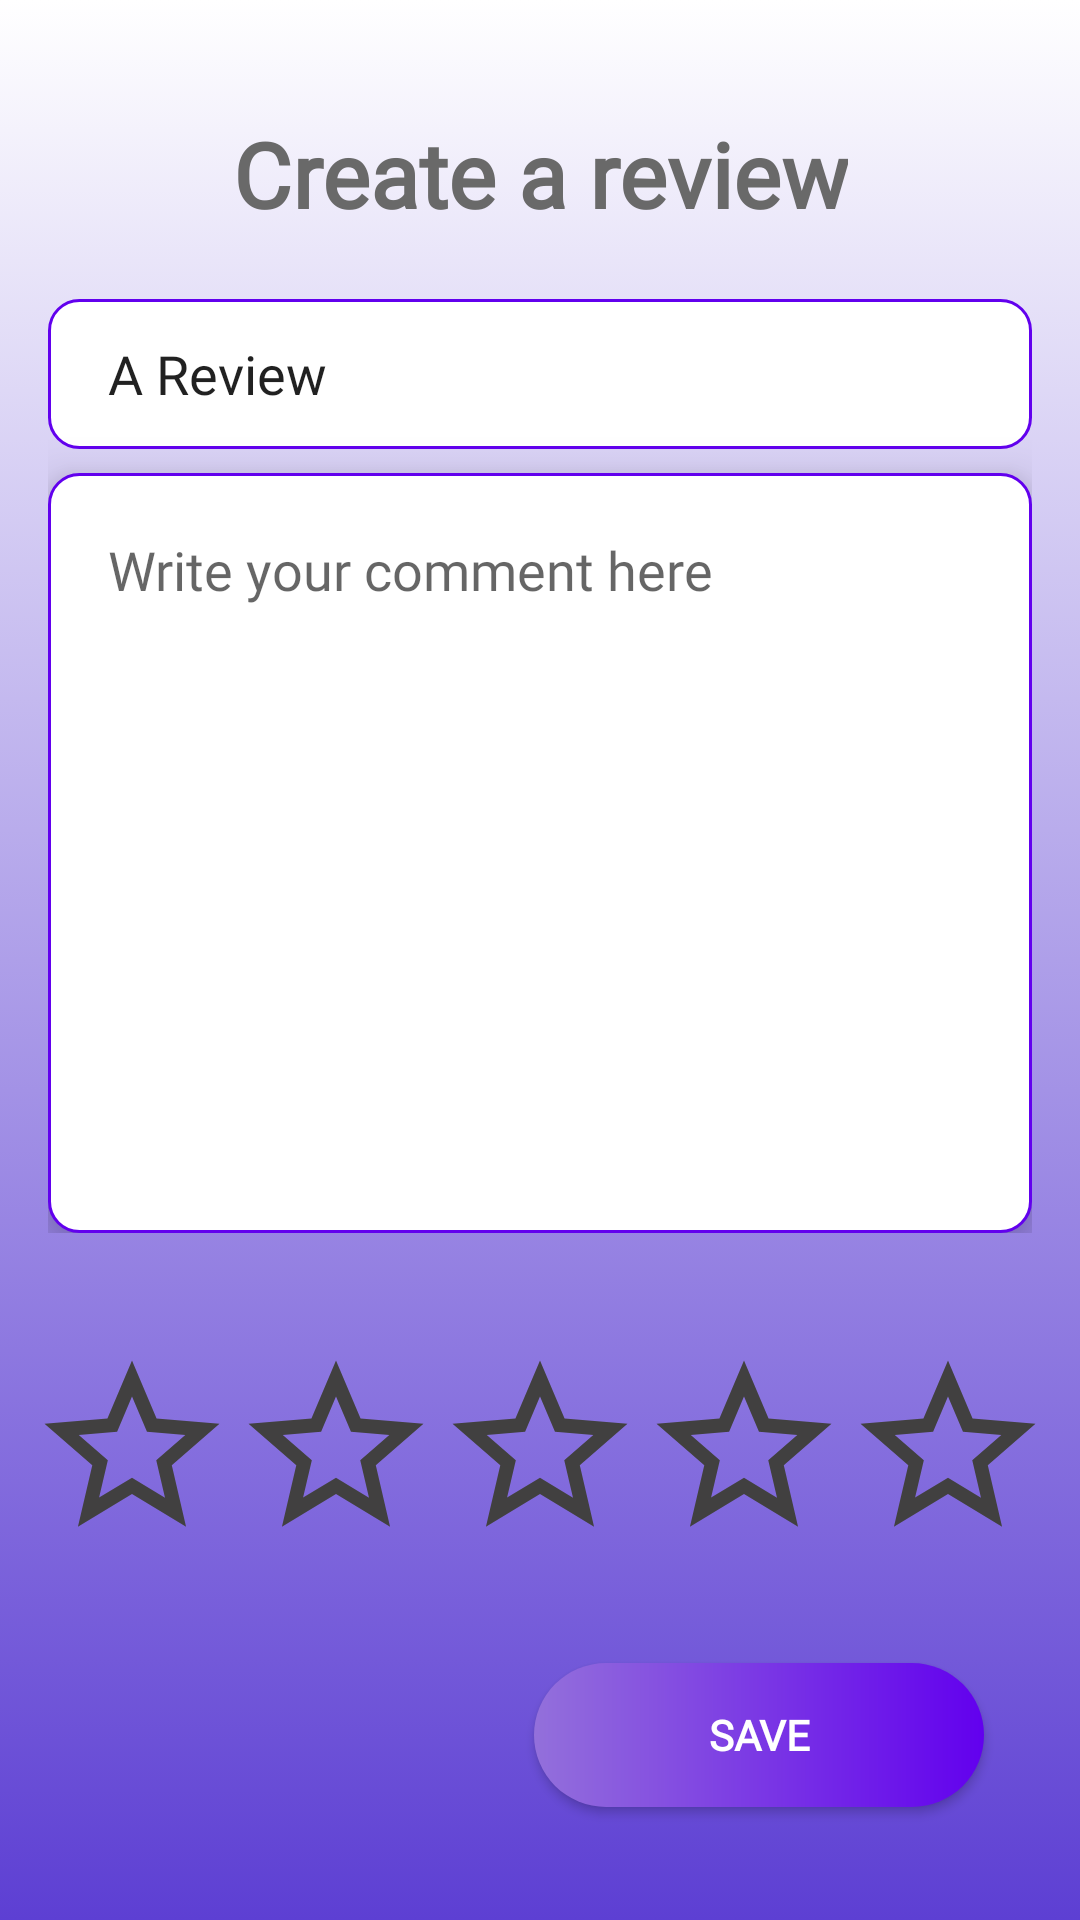

Point at icon controls on the screen. Image size 1080px x 1920px, points as (x,y).
star empty: (132,1444), (336,1444), (540,1444), (744,1444), (948,1444)
